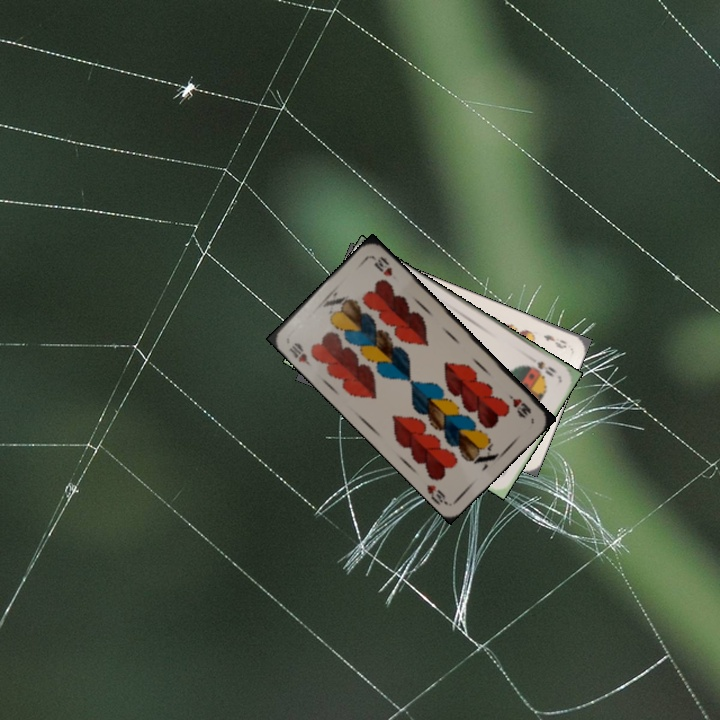E9: (539, 330, 569, 352)
H10: (285, 338, 315, 369), (504, 390, 534, 419)
SO: (527, 357, 559, 380)
